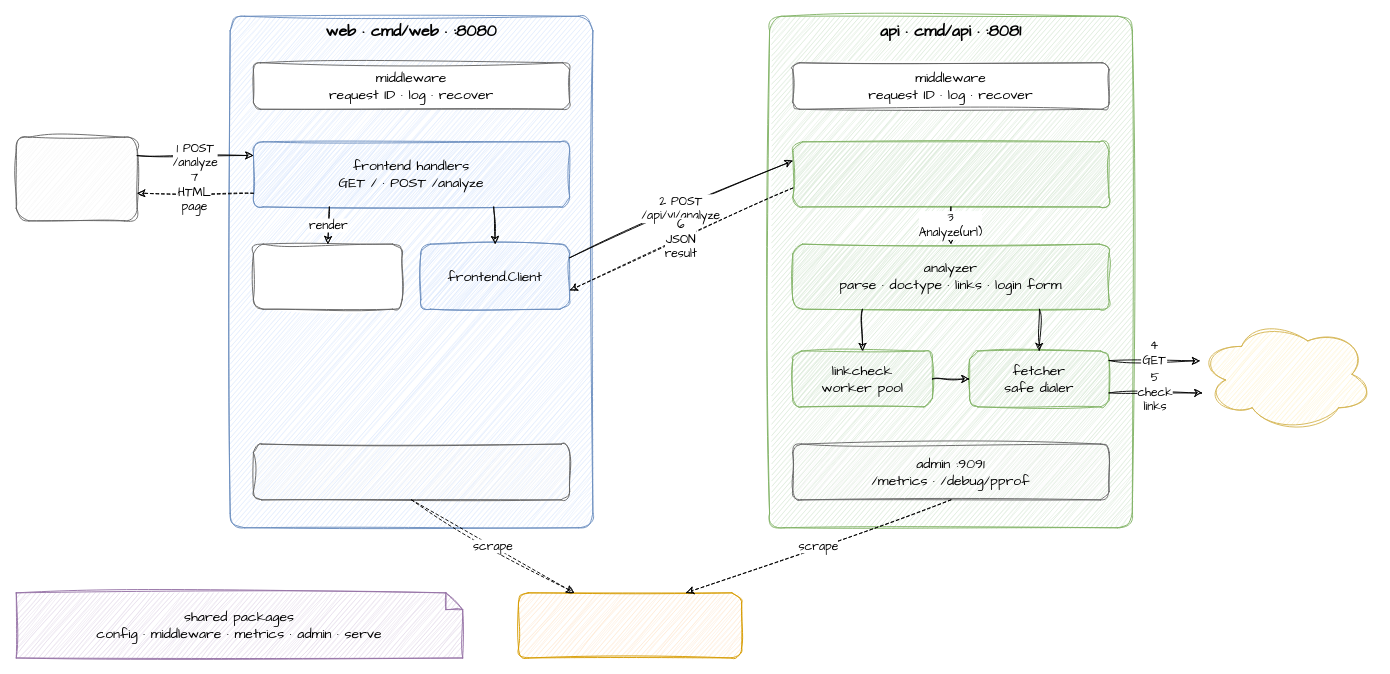
Some shapes in this 1390 by 674 pixel diagram are drawn without their labels. Each missing label, with the centre of its shape:
admin :9090 /metrics · /debug/pprof: [411,471]
api handlers POST /api/v1/analyze · GET /healthz: [950,174]
Browser: [76,178]
Internet target page + links: [1285,374]
Prometheus UI :9090: [630,625]
templates + app.js: [327,276]
